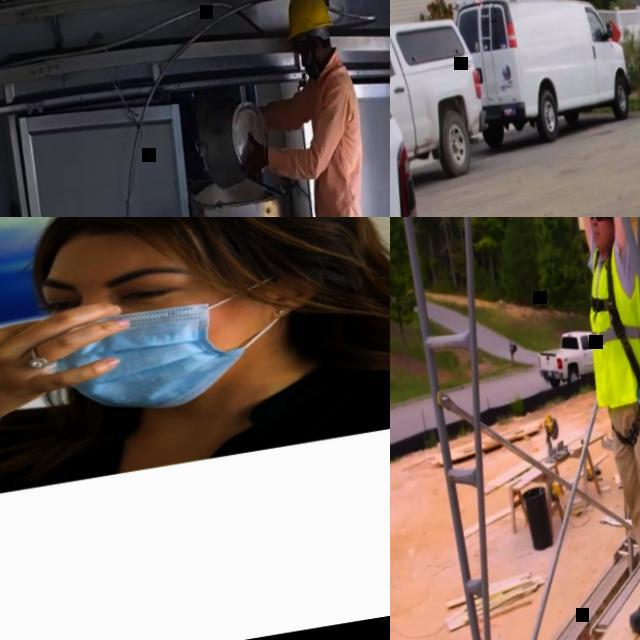helmet: (279, 0, 337, 43)
vest: (573, 245, 640, 412)
